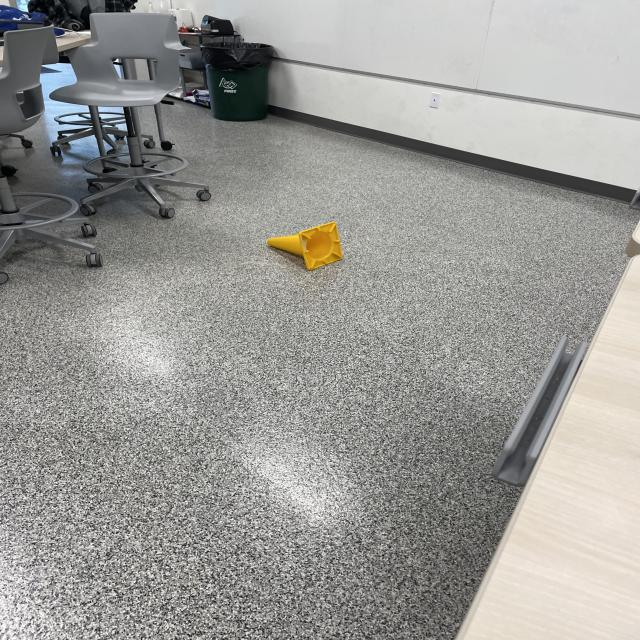frc_cone: (264, 219, 345, 272)
